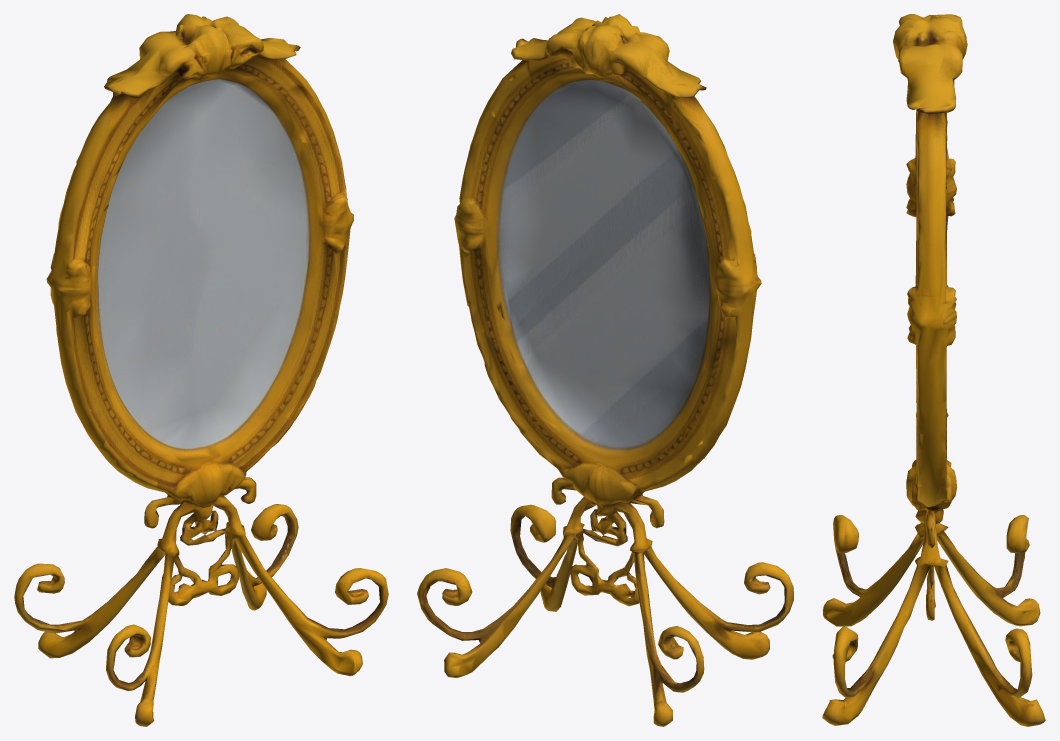
The model's file is mirror.glb.
3 renders of one model, left to right at view 1: azimuth 30°, elevation 25°; view 2: azimuth 150°, elevation 25°; view 3: azimuth 270°, elevation 25°, orthographic.
Parts seen in each view (by area): view 1: Mesh_0; view 2: Mesh_0; view 3: Mesh_0.
Part boxes in pixels (left/top/right/bottom): Mesh_0: left=14, top=14, right=388, bottom=726; Mesh_0: left=417, top=14, right=793, bottom=726; Mesh_0: left=822, top=14, right=1045, bottom=726.
Bounding box in the file's own units: 0.9666 × 2 × 0.6174.
Materials: 1 (1 with a texture image).
